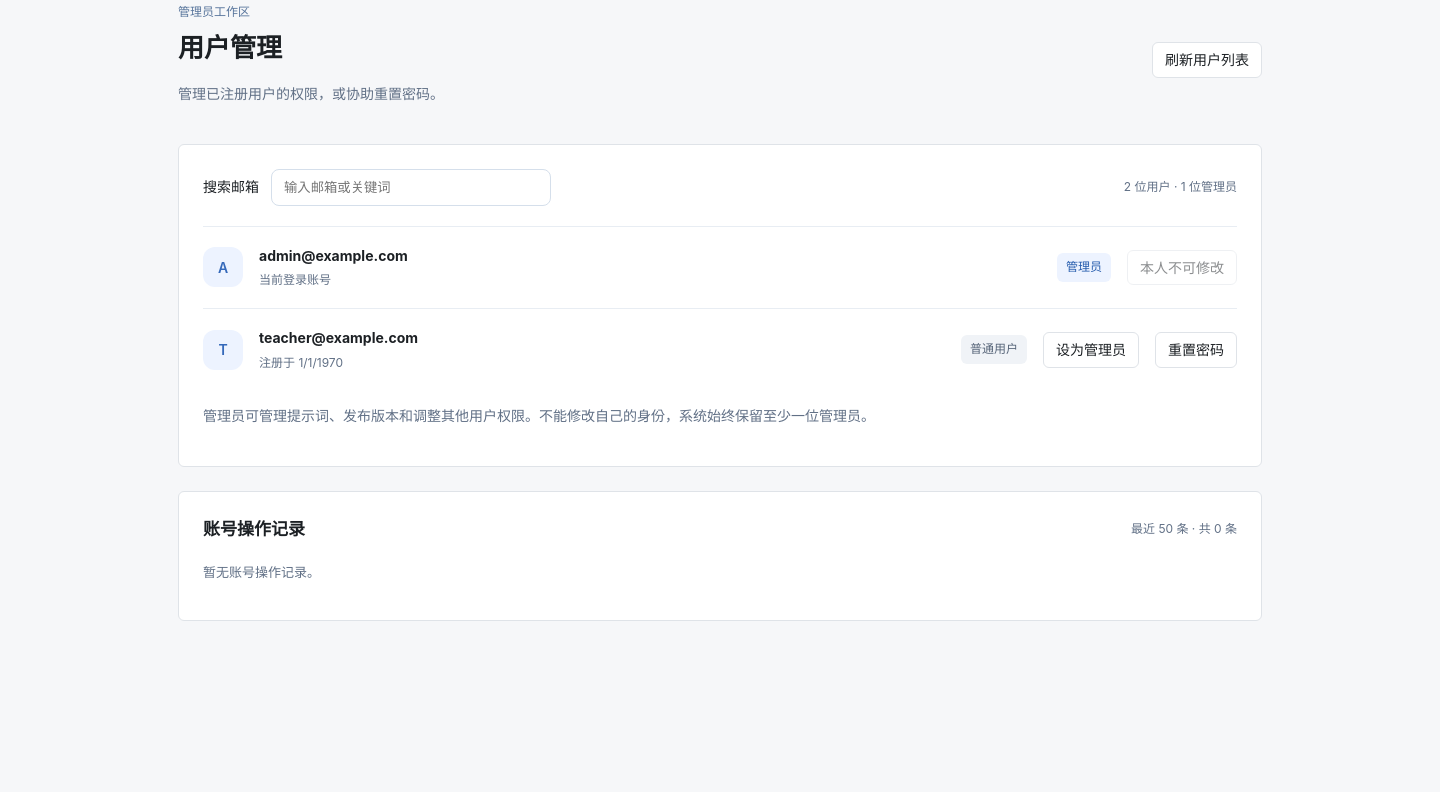
Test: cancelling the dialog does not change permissions
What coordinates should you click on to do the following:
click the button with aria-label "设为管理员：teacher@example.com"
I would click on:
 (1091, 350)
Its box is left=1043, top=332, right=1139, bottom=368.
(page scrolled)
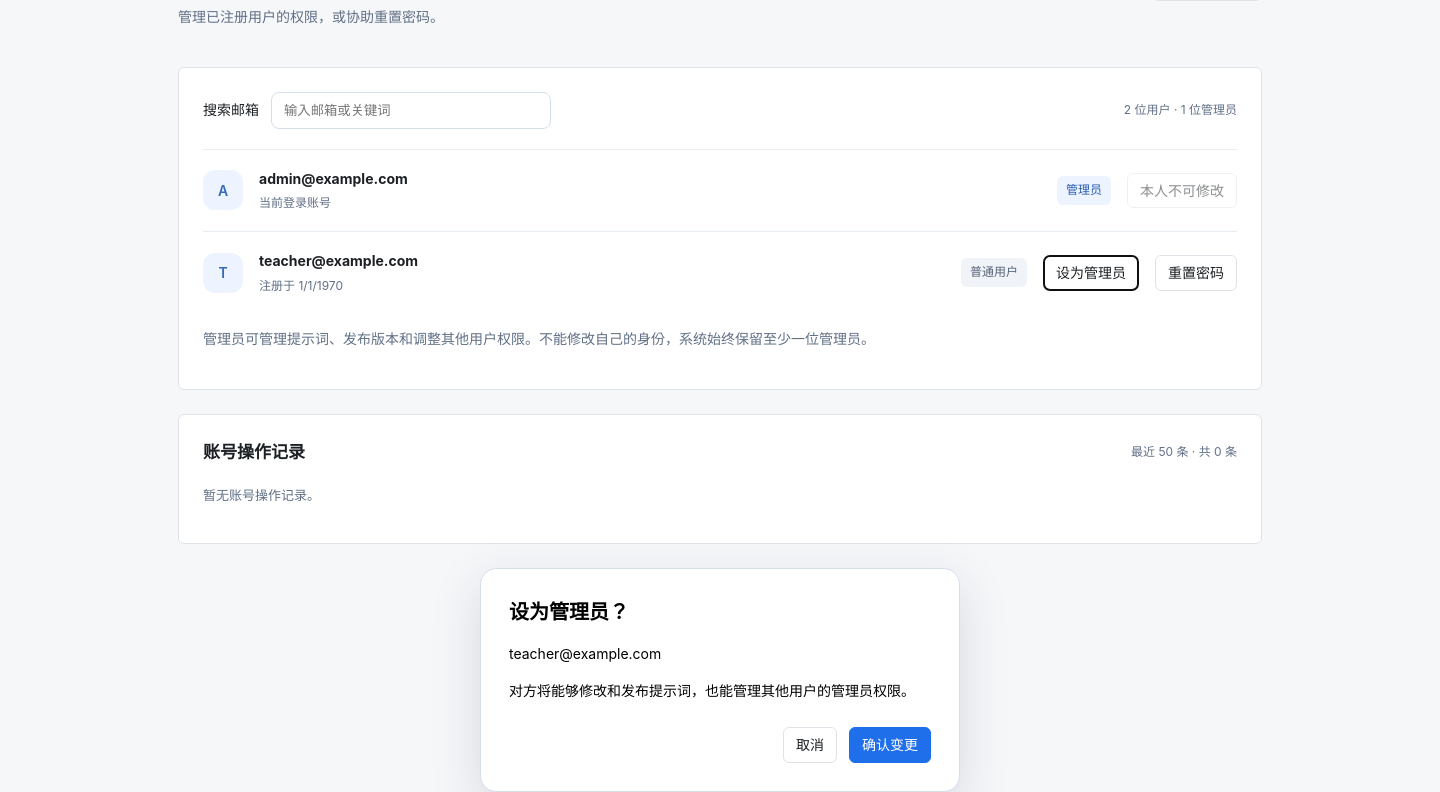
What coordinates should you click on to do the following:
click the button "取消"
I would click on:
 (810, 745)
Its box is left=783, top=727, right=837, bottom=763.
(page scrolled)
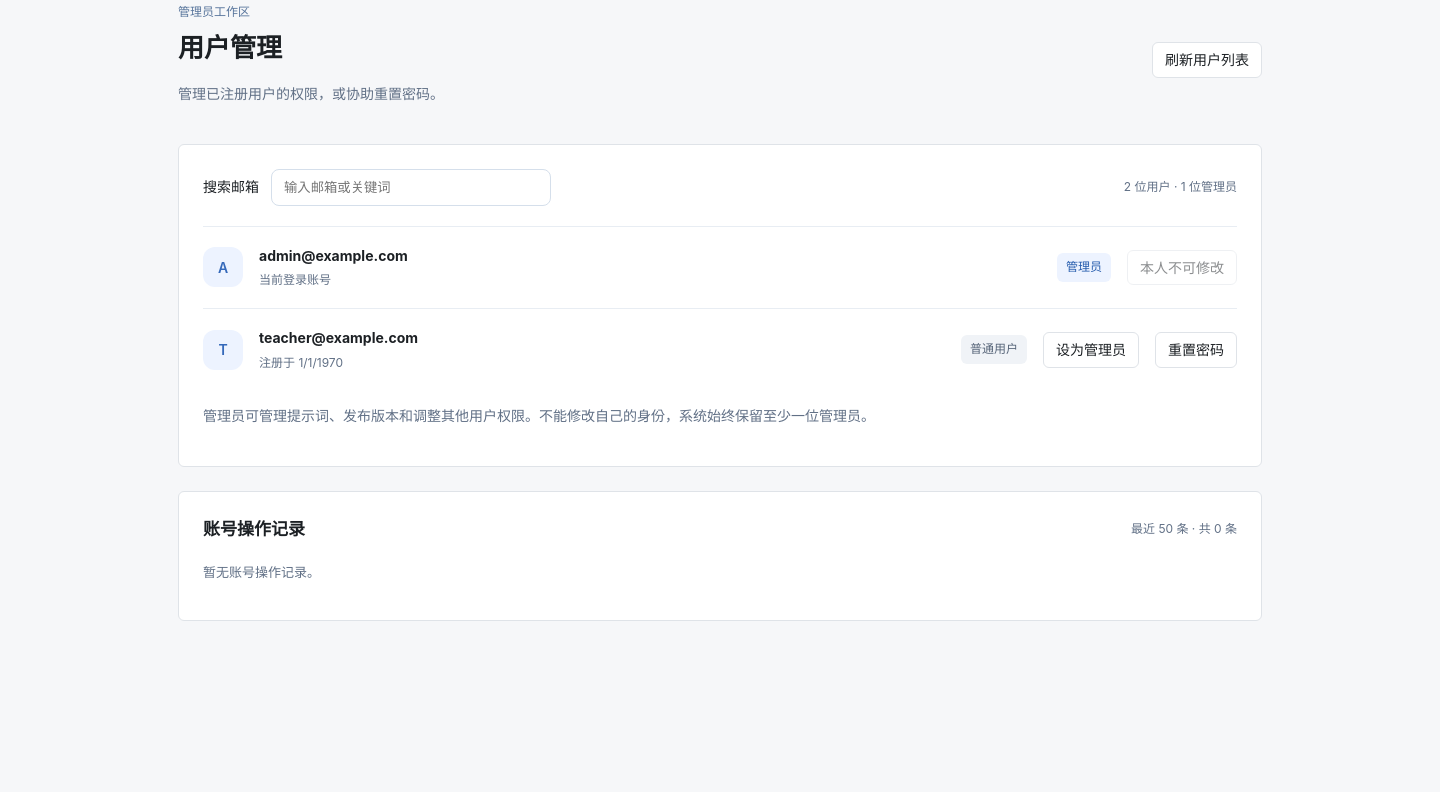
Expected: the dialog is gone
